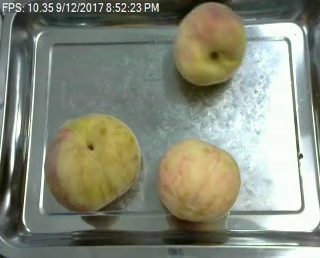Peach: (43, 112, 141, 212), (158, 138, 241, 221), (172, 0, 245, 85)
